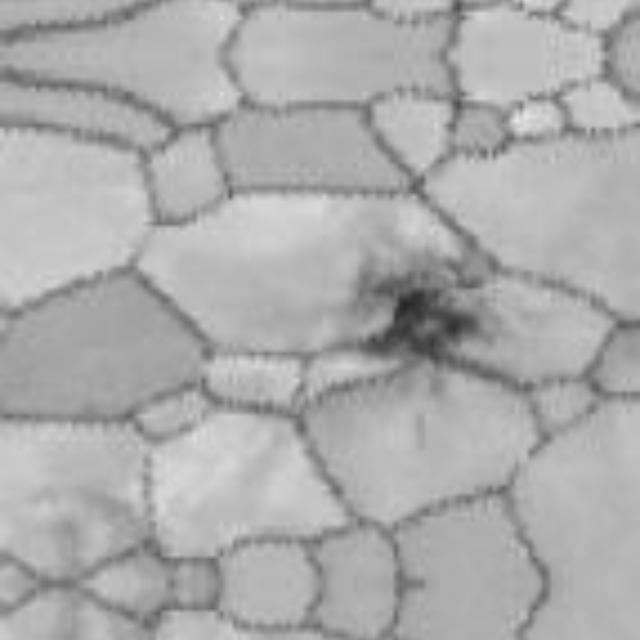good_void: (336, 245, 501, 392)
